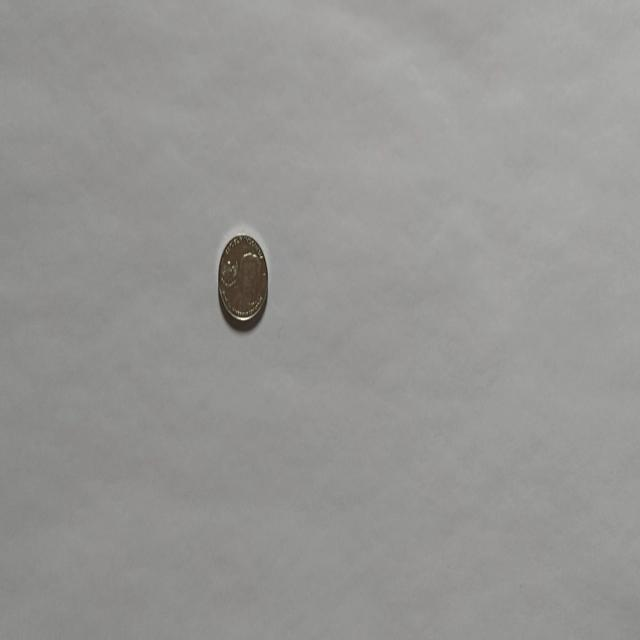seratus rupiah: (217, 232, 268, 328)
